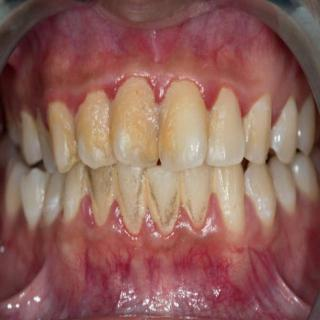LL1BC_healthy: (270, 160, 297, 211)
LL2BC_healthy: (292, 156, 319, 198)
LLCI_sdecay: (179, 168, 212, 227)
LLC_healthy: (245, 165, 277, 222)
LLLI_healthy: (213, 167, 246, 228)
LR1BC_mdecay: (60, 161, 84, 221)
LR1M_healthy: (21, 170, 45, 228)
LR2BC_healthy: (41, 172, 62, 225)
LR2M_healthy: (5, 160, 28, 214)
LRCI_sdecay: (145, 169, 178, 234)
LRC_sdecay: (86, 168, 114, 225)
LRLI_sdecay: (114, 167, 146, 236)
UL1BC_healthy: (272, 97, 298, 162)
UL2BC_healthy: (298, 95, 315, 155)
ULCI_healthy: (158, 81, 209, 171)
ULC_healthy: (244, 95, 272, 164)
ULLI_healthy: (209, 88, 244, 166)
UR1BC_healthy: (35, 109, 55, 172)
UR2BC_healthy: (21, 109, 41, 165)
URCI_healthy: (110, 77, 157, 167)
URC_healthy: (47, 101, 78, 172)
URLI_healthy: (75, 91, 114, 169)
